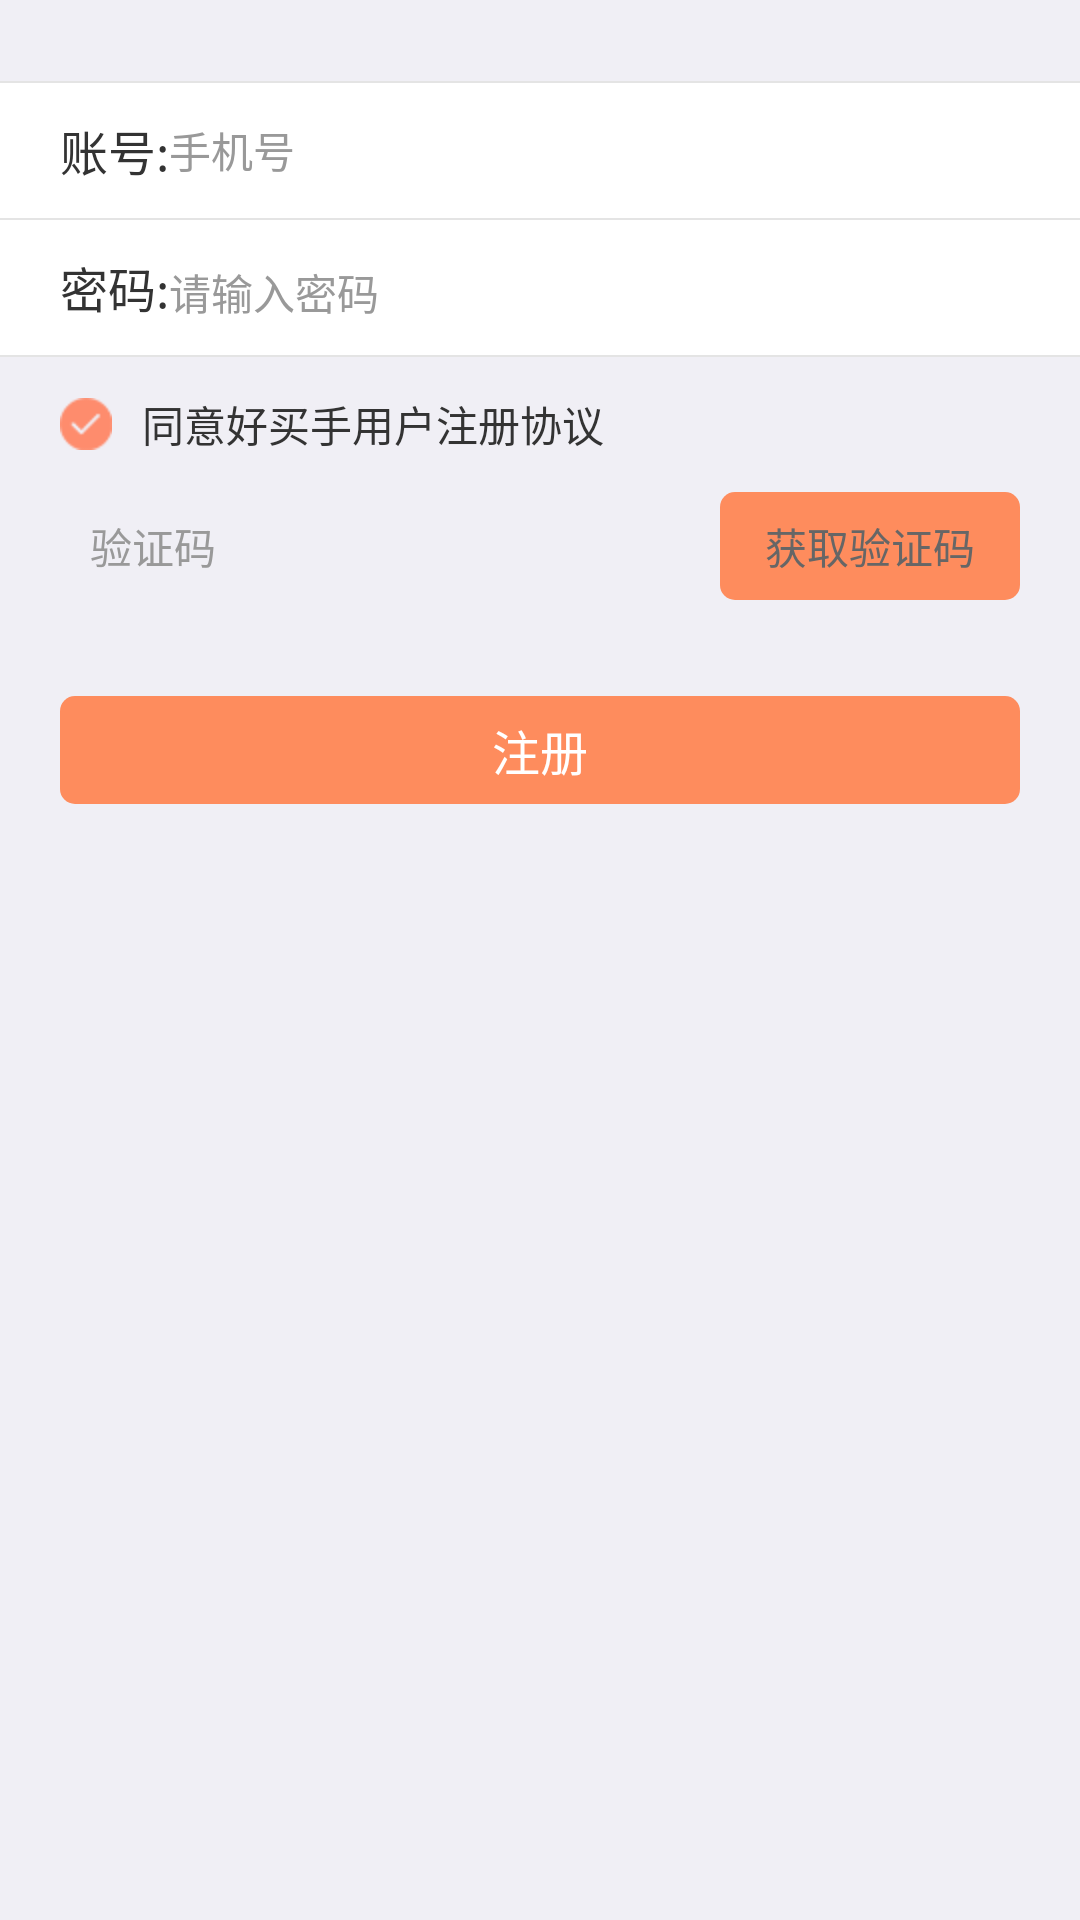

Screen size 1080x1920. Icon name, then its box in pixels as (x1, y1, x2, y2):
checkbox: (60, 398, 112, 450)
